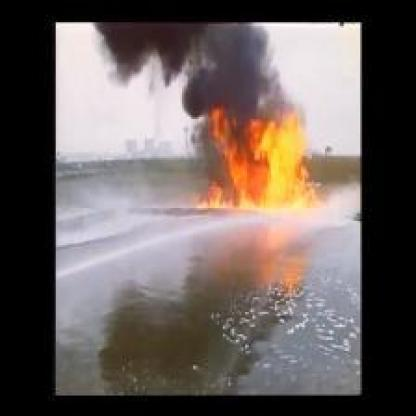fire: (200, 101, 315, 214)
smoke: (94, 22, 289, 105)
